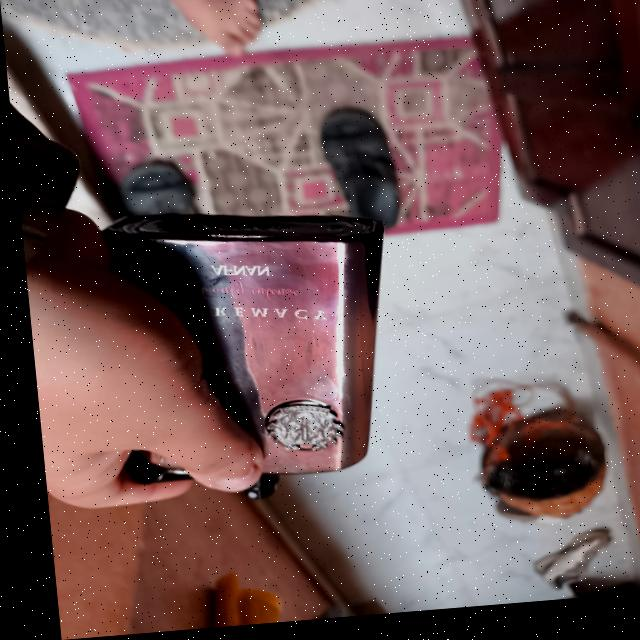Afnan: (92, 200, 400, 513)
